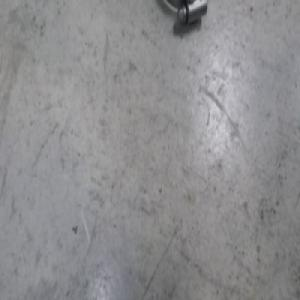AdjustableClamp: (177, 1, 207, 24)
